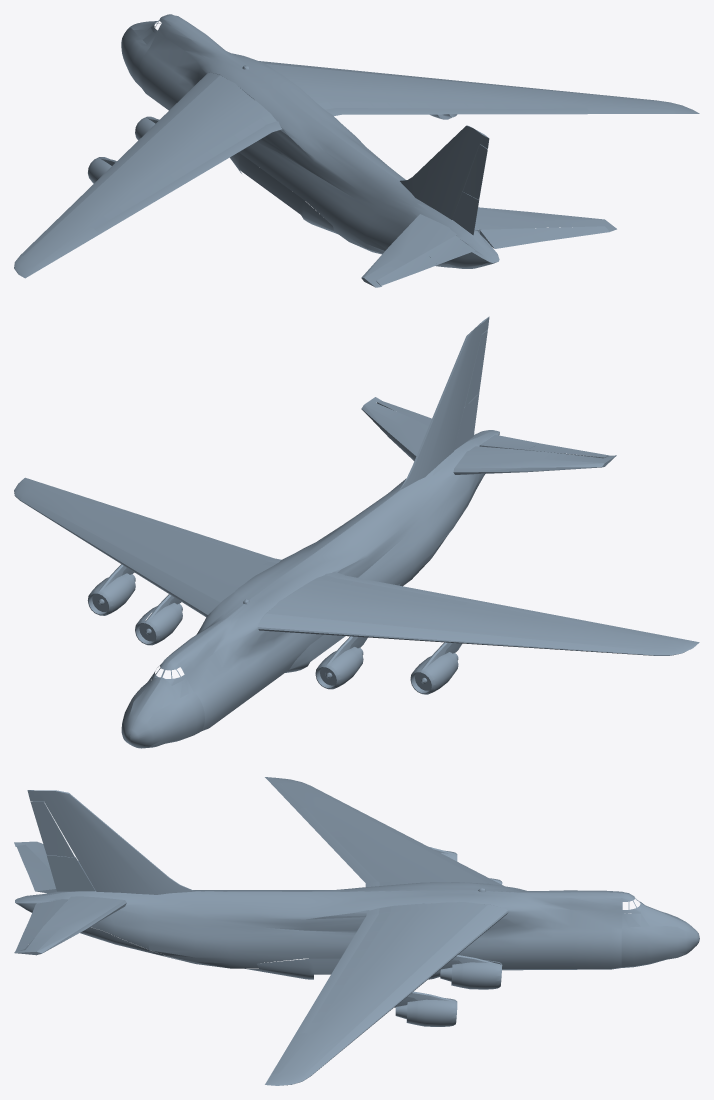
3 views of the same model, one above another, from view 1: azimuth 30°, elevation 25°; view 2: azimuth 150°, elevation 25°; view 3: azimuth 270°, elevation 25° (orthographic). The views are drawn at different scales.
Size of the model in its own units: 73.38 by 20 by 69.06.
